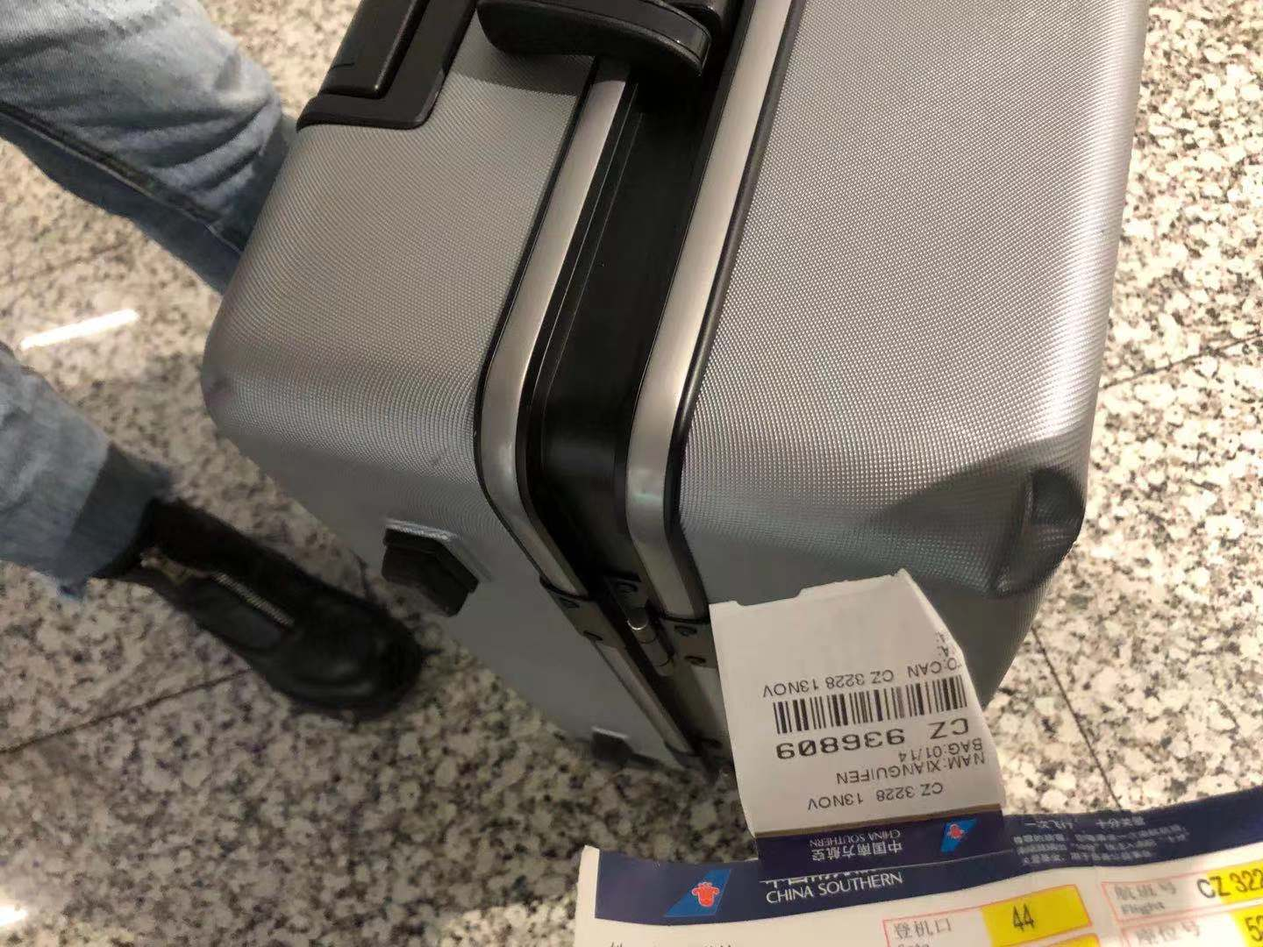rupture: (983, 463, 1085, 597)
